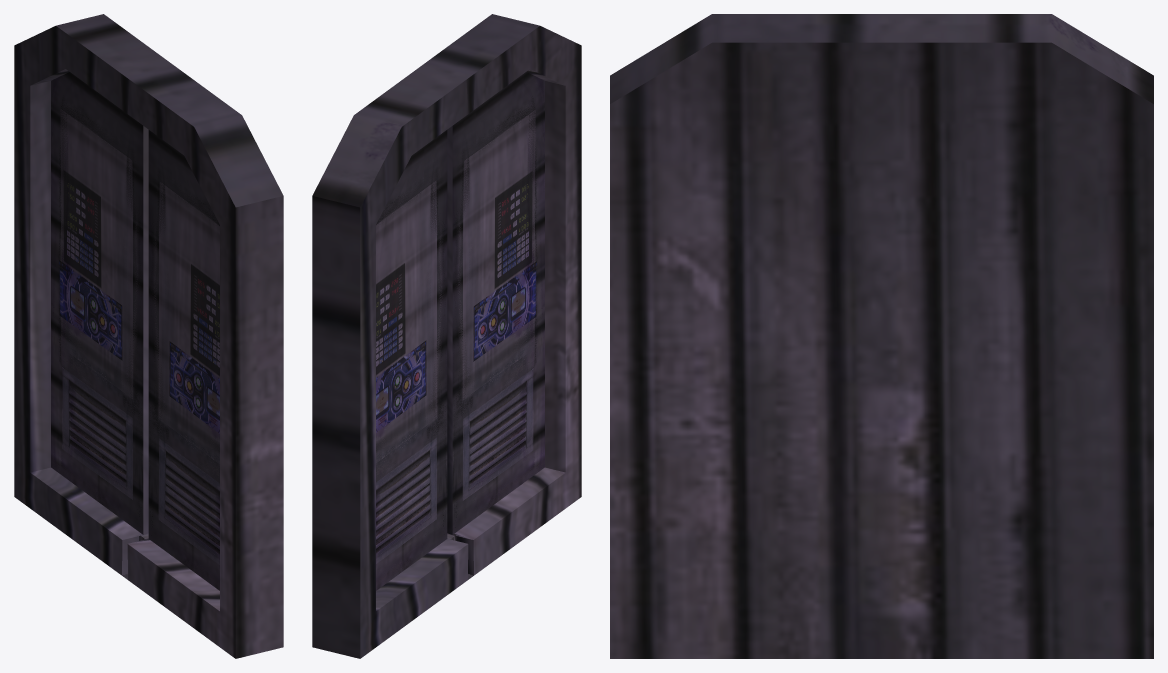
The model's file is door.fbx.
3 renders of one model, left to right at view 1: azimuth 30°, elevation 25°; view 2: azimuth 150°, elevation 25°; view 3: azimuth 270°, elevation 25°, orthographic. The views are drawn at different scales.
Parts seen in each view (by area): view 1: door; view 2: door; view 3: door.
Part boxes in pixels (x1,y1,x2,y2): door: (14, 14, 283, 658); door: (312, 14, 581, 658); door: (610, 14, 1153, 658).
Size of the model in its own units: 0.25 by 2.5 by 2.
